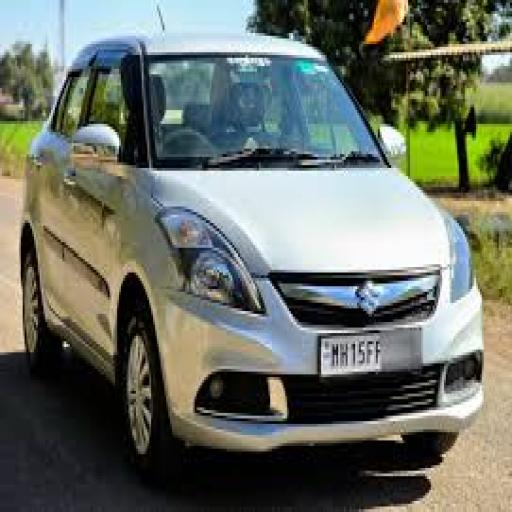License: (318, 328, 426, 374)
